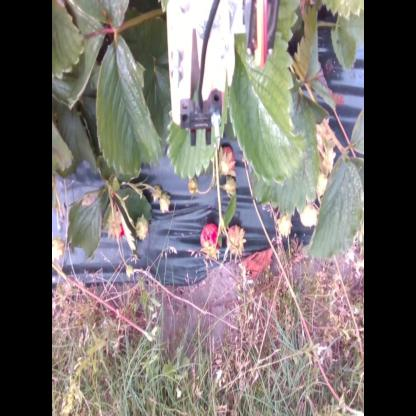ripe: (200, 225, 221, 260), (218, 145, 238, 180), (110, 218, 128, 243)
unripe: (226, 226, 246, 258), (274, 210, 296, 238), (299, 200, 318, 228), (136, 216, 148, 242), (186, 176, 199, 198), (224, 177, 236, 194)
